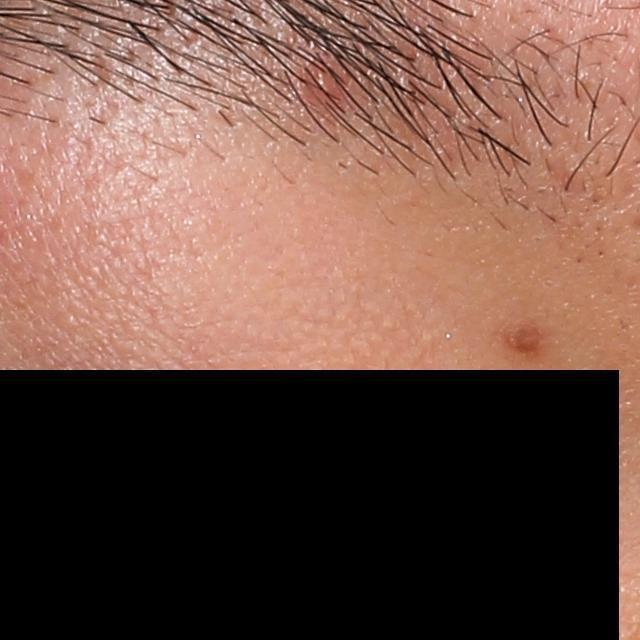nevus: (495, 322, 552, 362)
papule: (301, 57, 353, 110)
